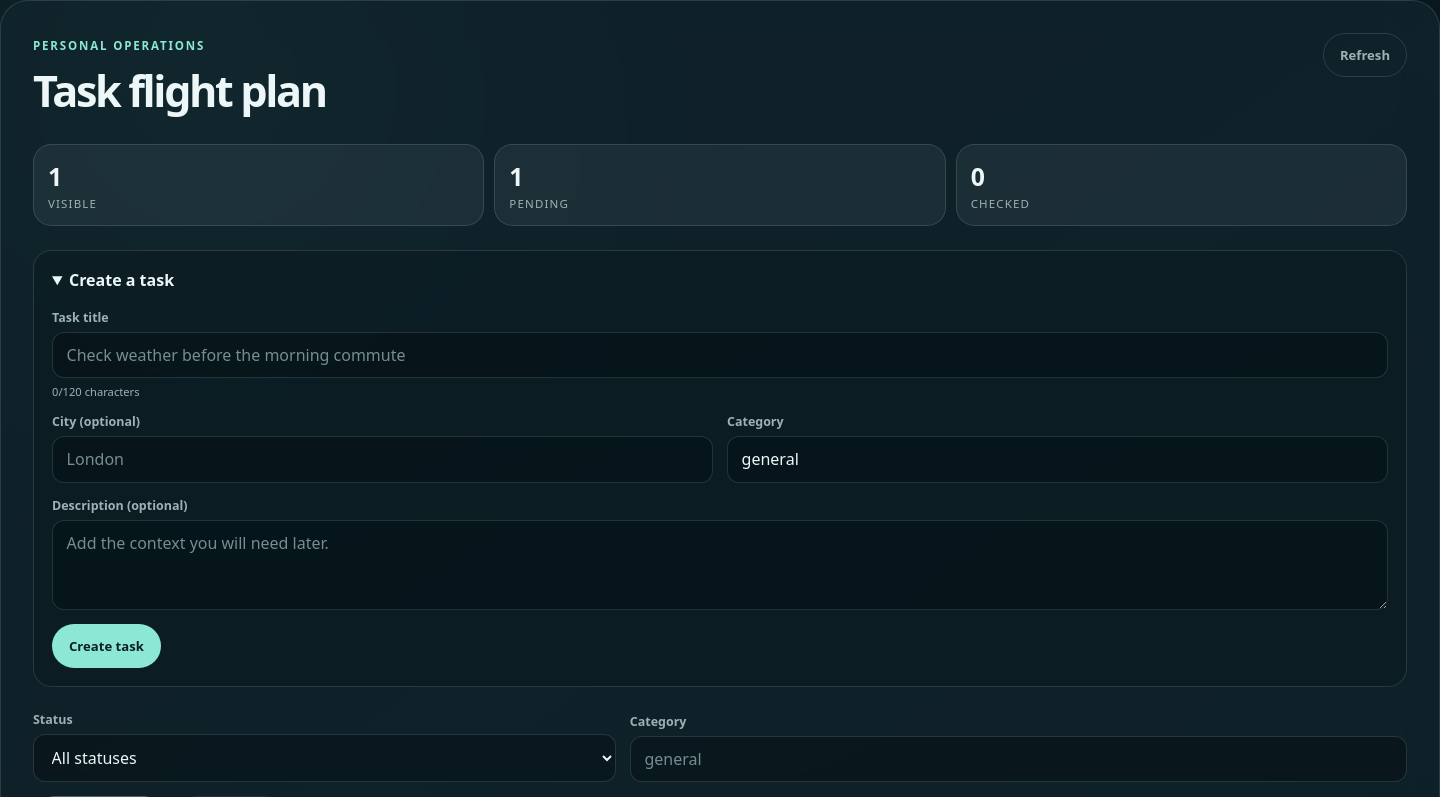
Scenario: task workspace › sends the selected status filter to the API
Select "Checked" in the dropdown labelled "Status": point(324, 758) [33,734,616,782]
(page scrolled)
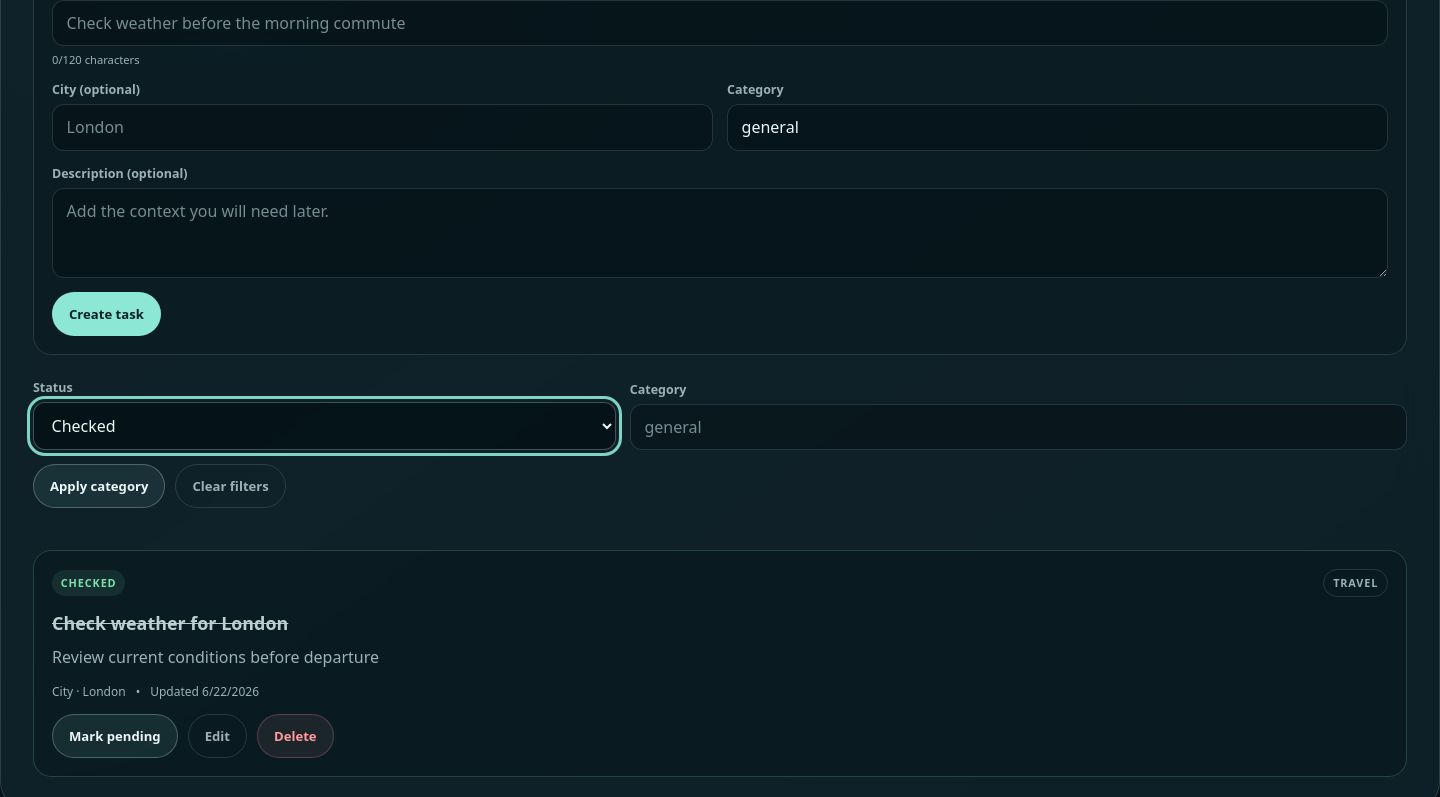
Expected: the text "Checked" is shown, [52,570,125,596]
